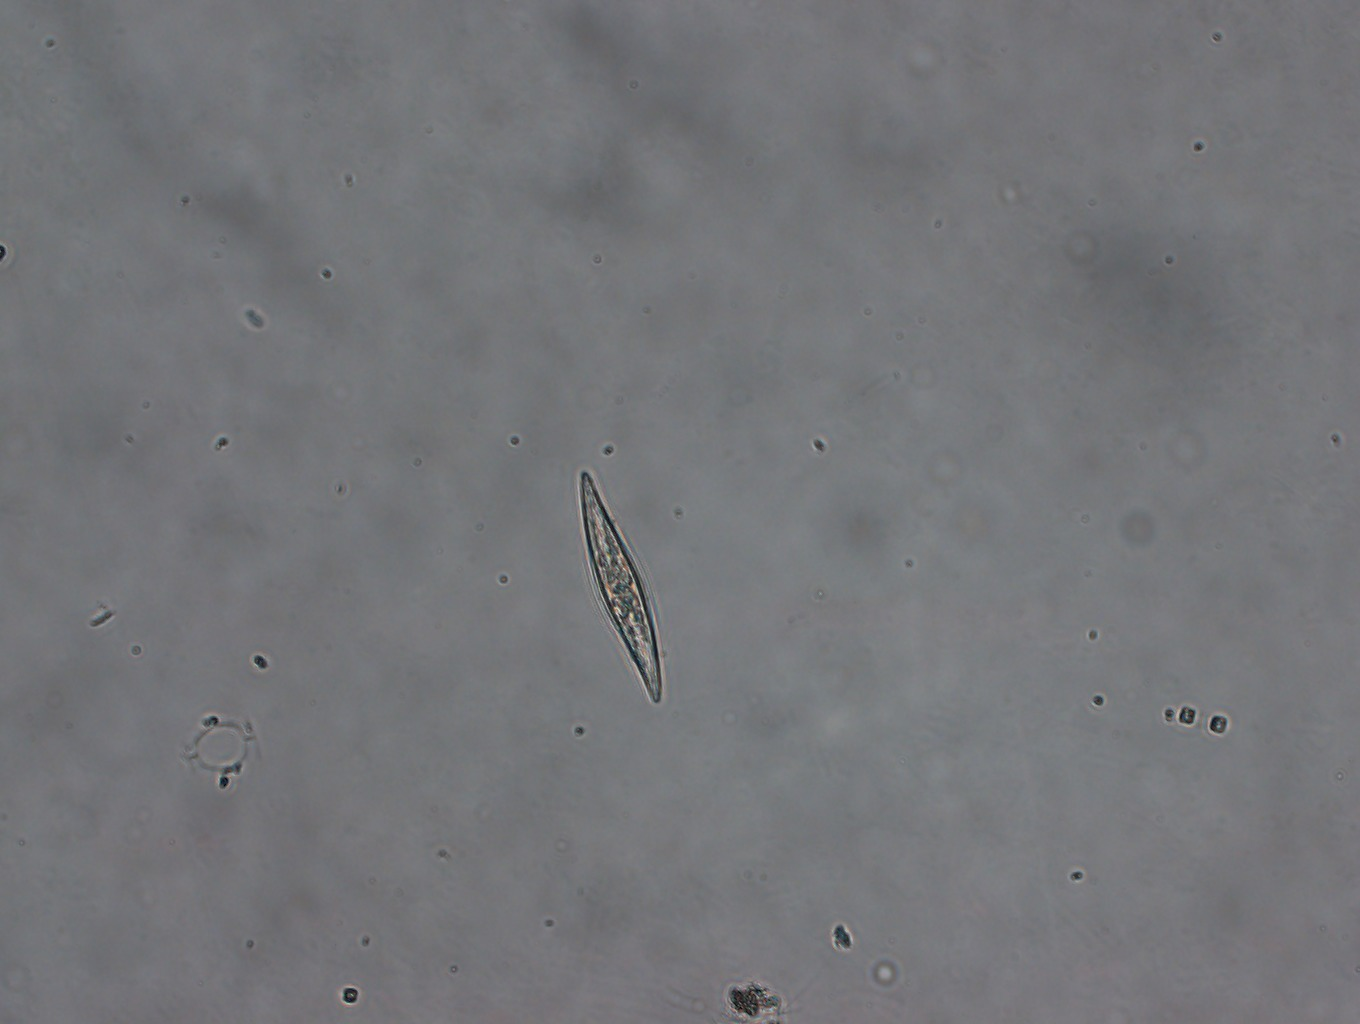pleurosigma pelagicum: (575, 466, 663, 706)
